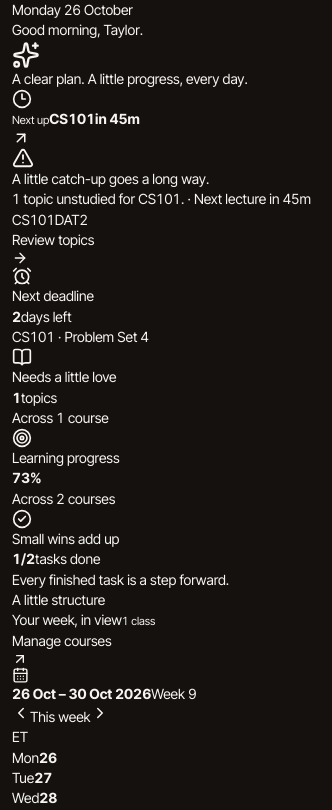
Material dashboard integration › uses server courses, weighted progress, catch-up links, and semester-bounded slots across DST
The image size is (332, 810).
Expected: the heading "Good morning, Taylor." is shown, [12,21,143,69]
Expected: the text "1/2" is shown, [12,550,35,567]
Click the button named "Next week" at (100, 713), box [90,704,108,722]
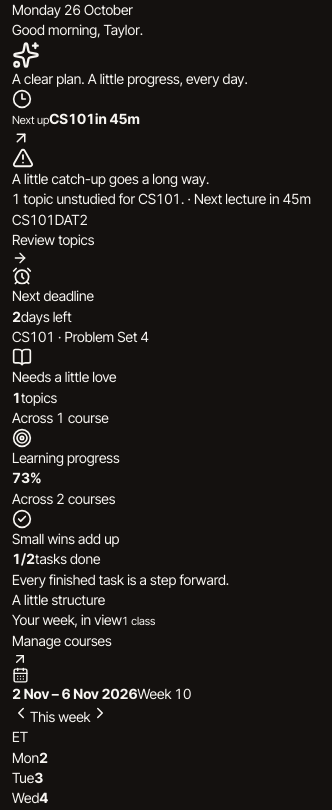
Click the button "This week" at (60, 717), box [30,707,90,727]
(page scrolled)
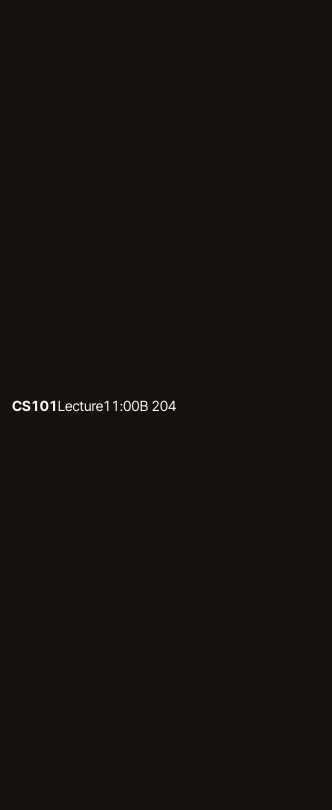
Result: the link with class "me-class-block" shows "CS101" at [12,397,176,414]
